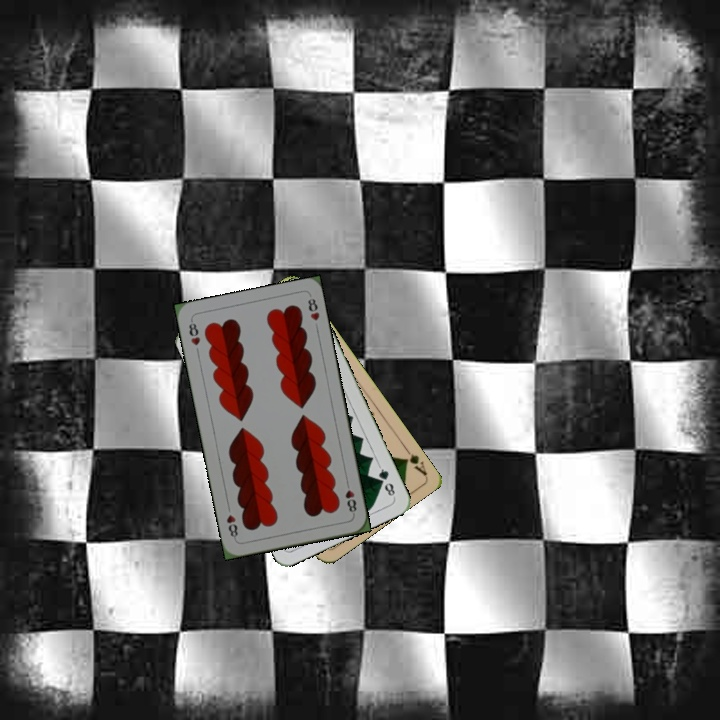G8: (374, 462, 398, 500)
GA: (399, 442, 429, 478)
H8: (341, 477, 359, 517), (185, 316, 203, 348)
